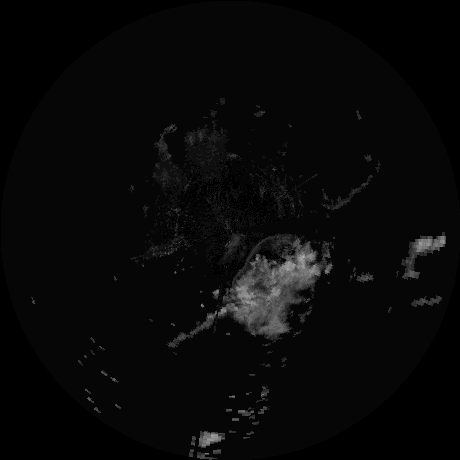frontgust: (236, 232, 292, 275)
